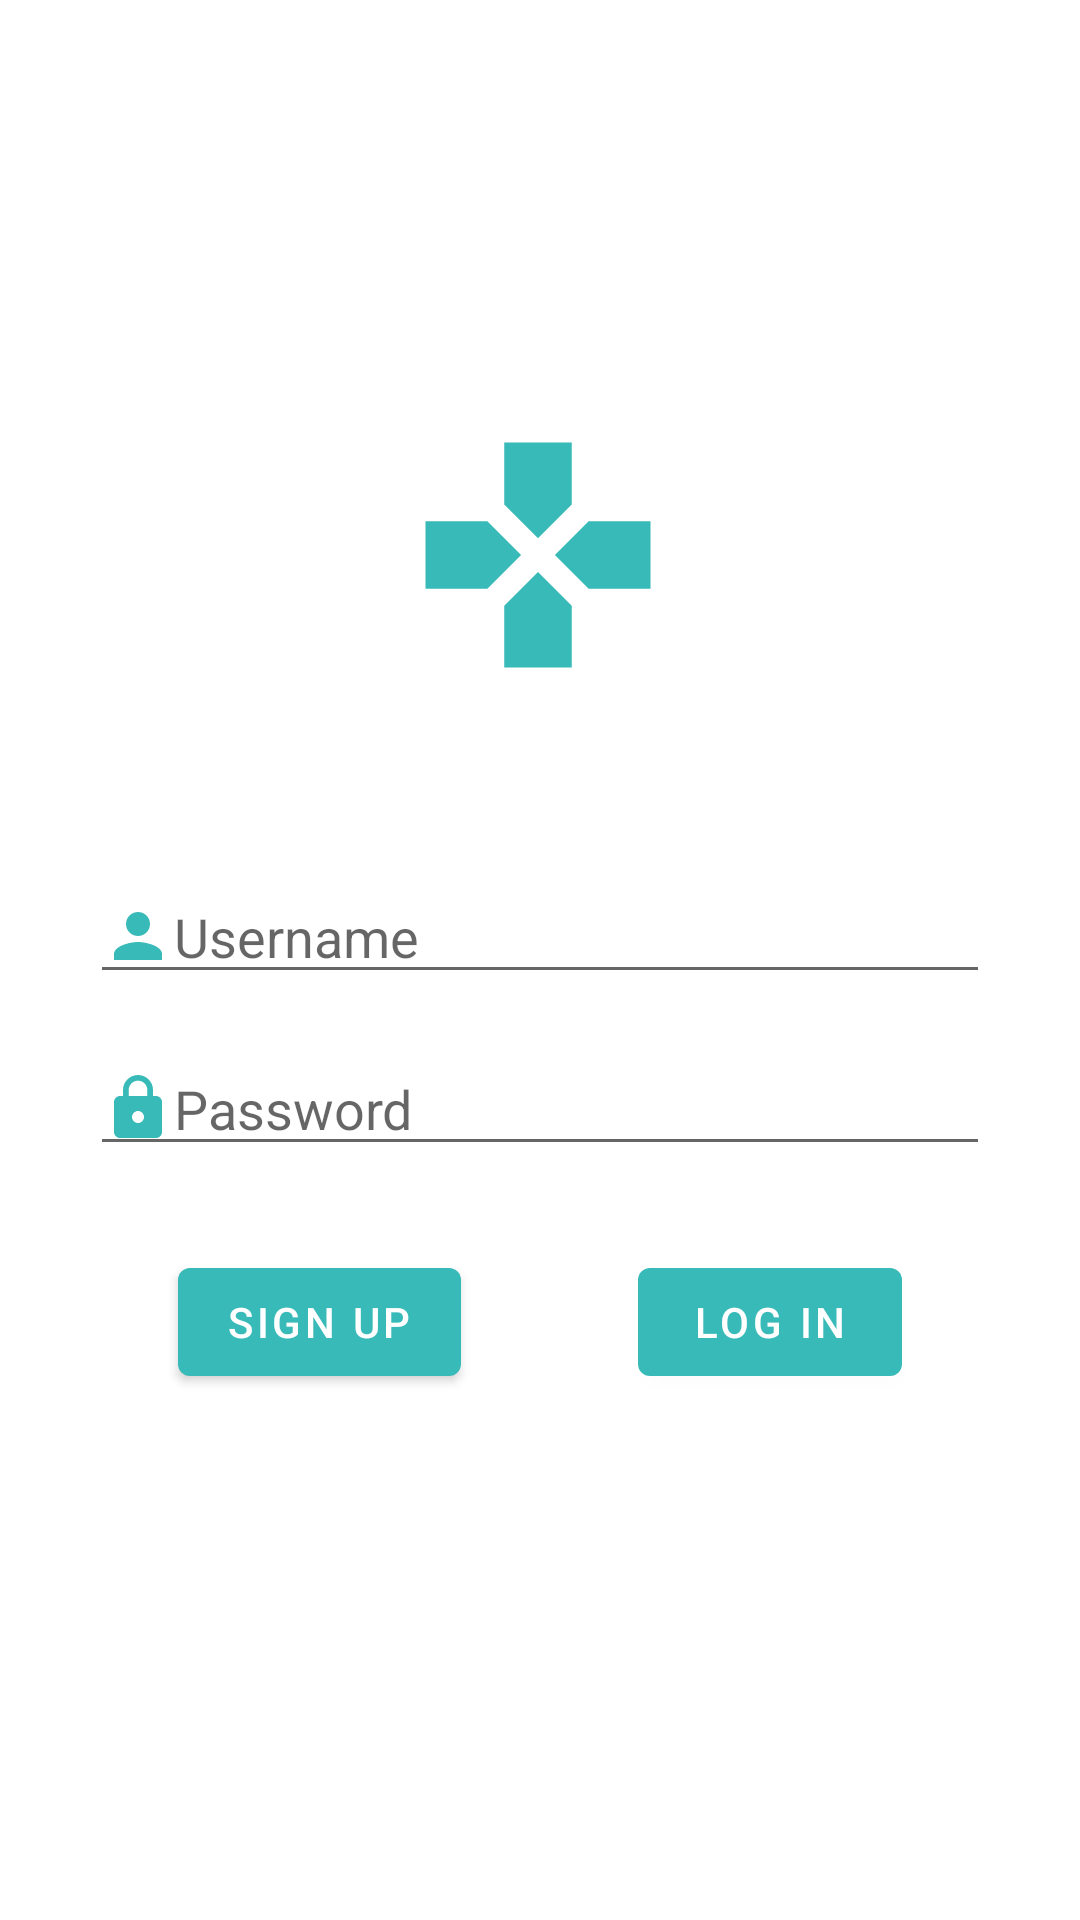

Screen size 1080×1920. Icon name, then its center in pixels as [x,y]:
games: [538,555]
